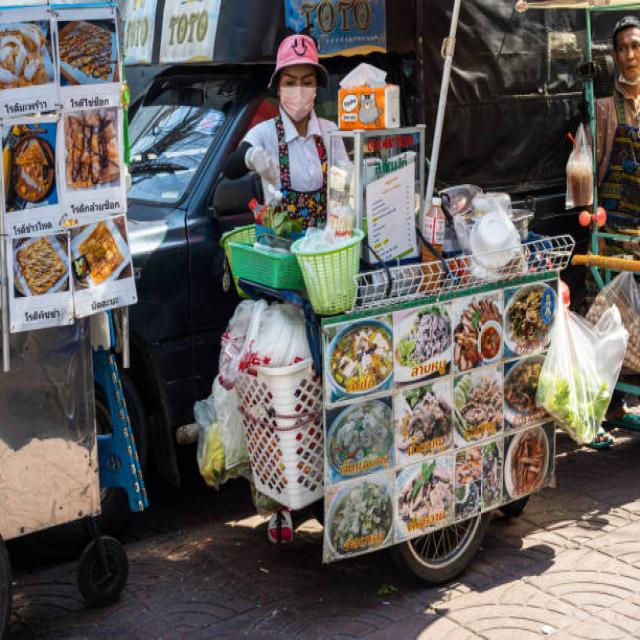Emperan: (178, 23, 606, 640)
